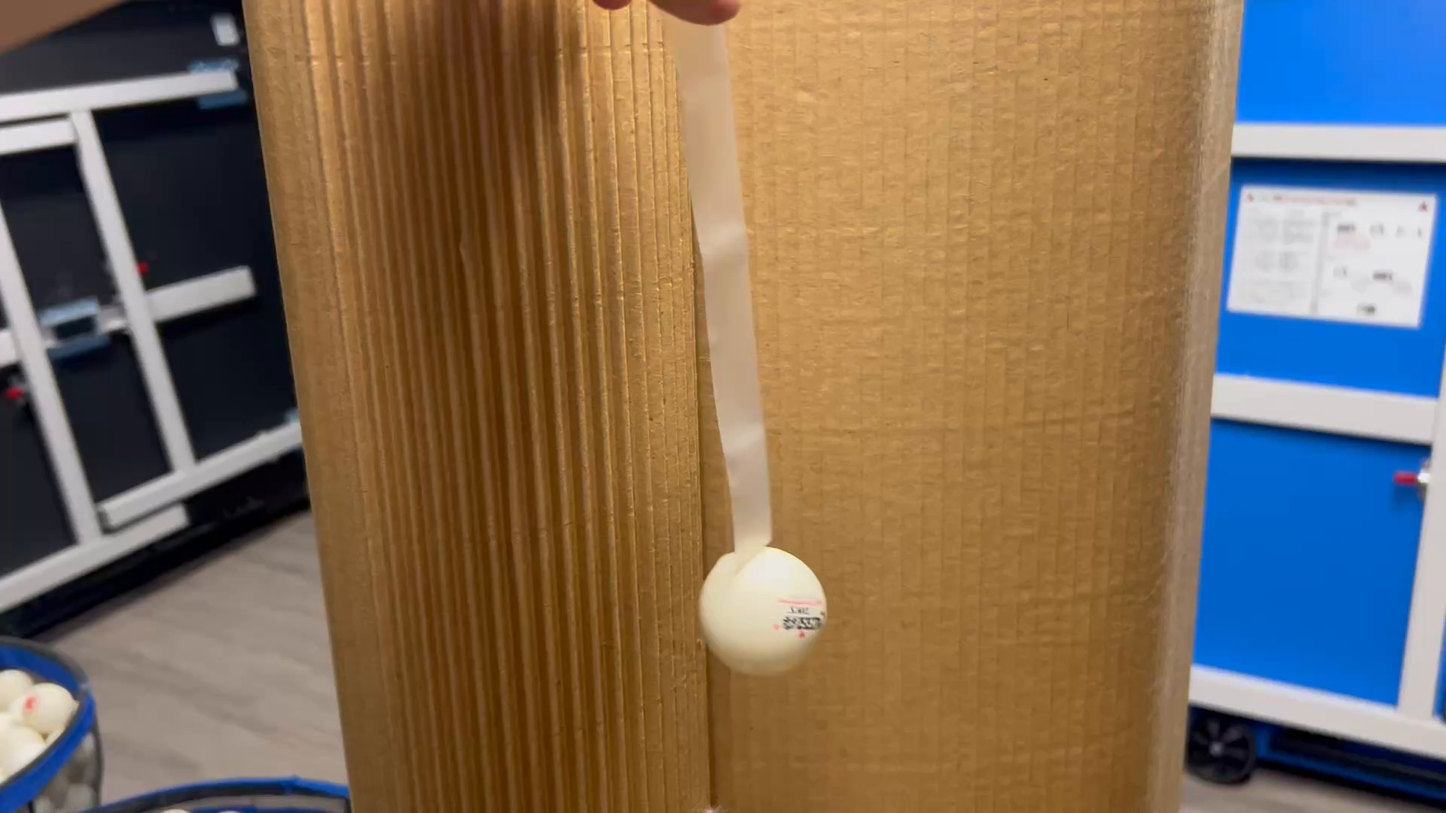Ball: (685, 538, 837, 673)
